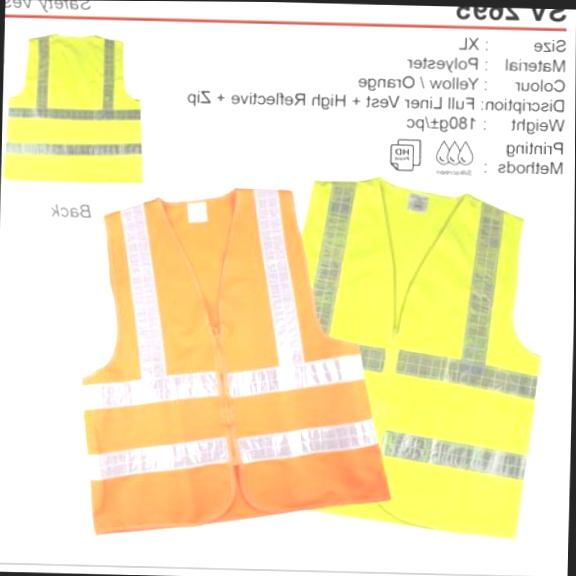safety_vest: (77, 178, 400, 546), (291, 176, 549, 537), (1, 30, 149, 185)
